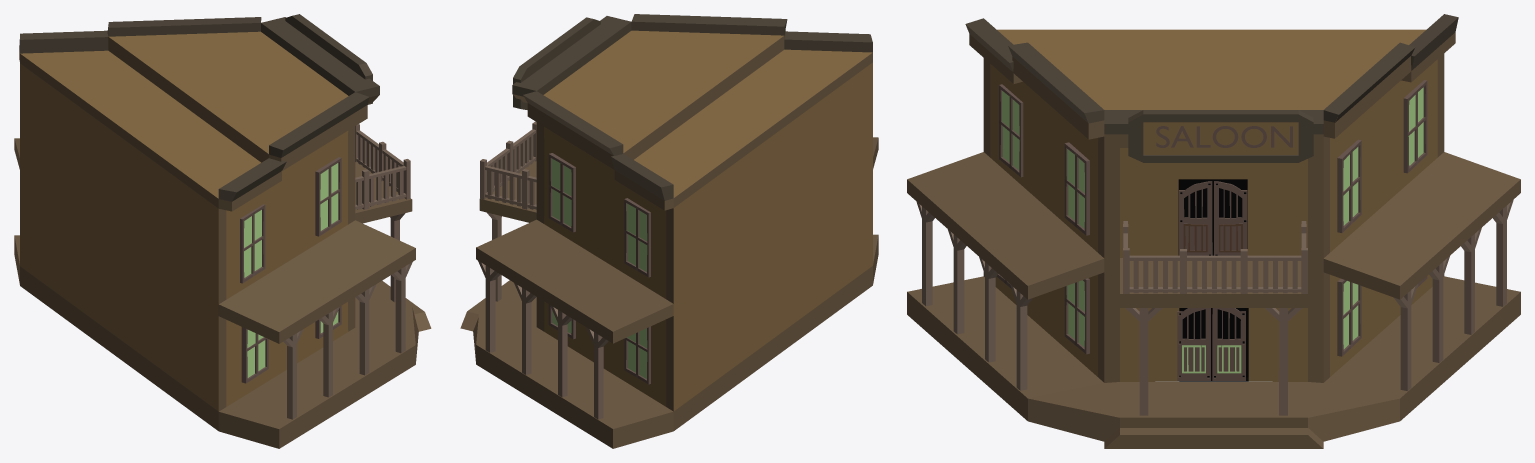
Rendered from sreal2.fbx.
3 views of the same model, side by side, from view 1: azimuth 30°, elevation 25°; view 2: azimuth 150°, elevation 25°; view 3: azimuth 270°, elevation 25° (orthographic). The views are drawn at different scales.
Parts seen in each view (by area): view 1: Cube.001, Cube.002, Cube, Cube.005, Cube.016, Cube.004, Cube.007; view 2: Cube.001, Cube.003, Cube, Cube.009, Cube.008, Cube.004, Cube.011; view 3: Cube.001, Cube.004, Cube.003, Cube, Cube.002, Plane, Plane.001, Cube.005, Cube.009, Cube.008, Cube.016, Cube.010 (+2 smaller).
Part boxes in pixels (x1=…): Cube.001: x1=14, y1=17, x2=431, y2=448; Cube.002: x1=283, y1=262, x2=412, y2=419; Cube: x1=355, y1=124, x2=410, y2=209; Cube.005: x1=315, y1=157, x2=341, y2=236; Cube.016: x1=240, y1=204, x2=265, y2=283; Cube.004: x1=285, y1=14, x2=372, y2=104; Cube.007: x1=241, y1=327, x2=268, y2=383; Cube.001: x1=460, y1=14, x2=878, y2=448; Cube.003: x1=478, y1=212, x2=608, y2=419; Cube: x1=480, y1=121, x2=536, y2=209; Cube.009: x1=548, y1=153, x2=575, y2=232; Cube.008: x1=624, y1=198, x2=650, y2=277; Cube.004: x1=513, y1=17, x2=600, y2=109; Cube.011: x1=624, y1=326, x2=650, y2=384; Cube.001: x1=907, y1=14, x2=1520, y2=448; Cube.004: x1=1128, y1=110, x2=1313, y2=162; Cube.003: x1=1125, y1=200, x2=1513, y2=415; Cube: x1=1123, y1=221, x2=1307, y2=293; Cube.002: x1=916, y1=201, x2=1032, y2=390; Plane: x1=1177, y1=308, x2=1245, y2=380; Plane.001: x1=1179, y1=181, x2=1247, y2=255; Cube.005: x1=1064, y1=142, x2=1089, y2=235; Cube.009: x1=1337, y1=139, x2=1361, y2=232; Cube.008: x1=1403, y1=80, x2=1427, y2=173; Cube.016: x1=999, y1=84, x2=1023, y2=177; Cube.010: x1=1337, y1=278, x2=1361, y2=356.
Size of the model in its own units: 4173 by 3992 by 7227.
